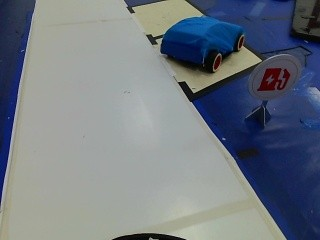battery: (254, 60, 293, 105)
car: (153, 12, 247, 72)
